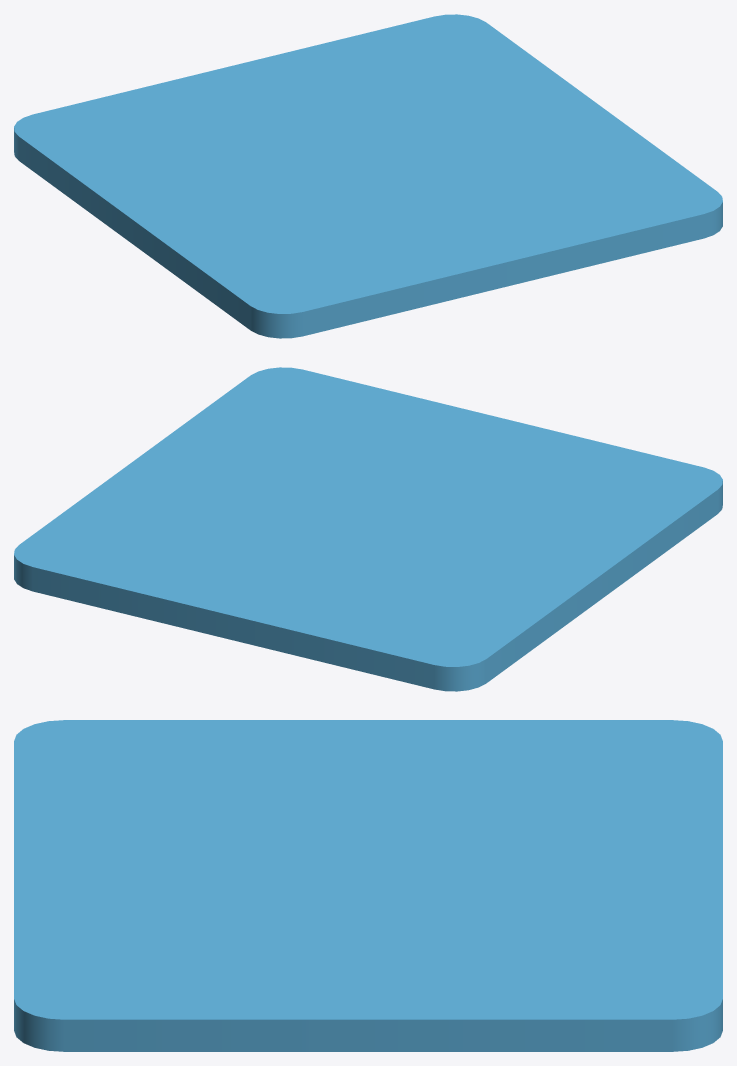
The model's file is ground-base.glb.
3 views of the same model, one above another, from view 1: azimuth 30°, elevation 25°; view 2: azimuth 150°, elevation 25°; view 3: azimuth 270°, elevation 25° (orthographic). The views are drawn at different scales.
Visible parts, largest first — view 1: Plane; view 2: Plane; view 3: Plane.
Boxes of the visible parts, left/top/right/bottom form: Plane: left=14, top=14, right=722, bottom=338; Plane: left=14, top=367, right=722, bottom=691; Plane: left=14, top=720, right=722, bottom=1051.
Size of the model in its own units: 10 by 0.4999 by 10.
